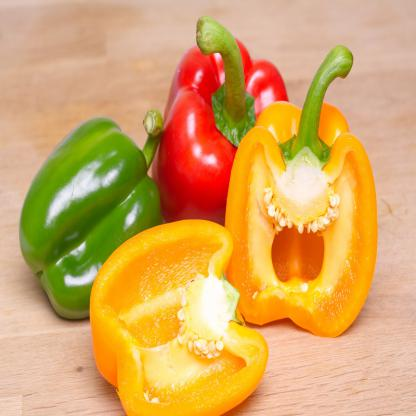bell pepper: (223, 42, 376, 339), (88, 218, 272, 416), (153, 16, 290, 240), (19, 116, 165, 326)
